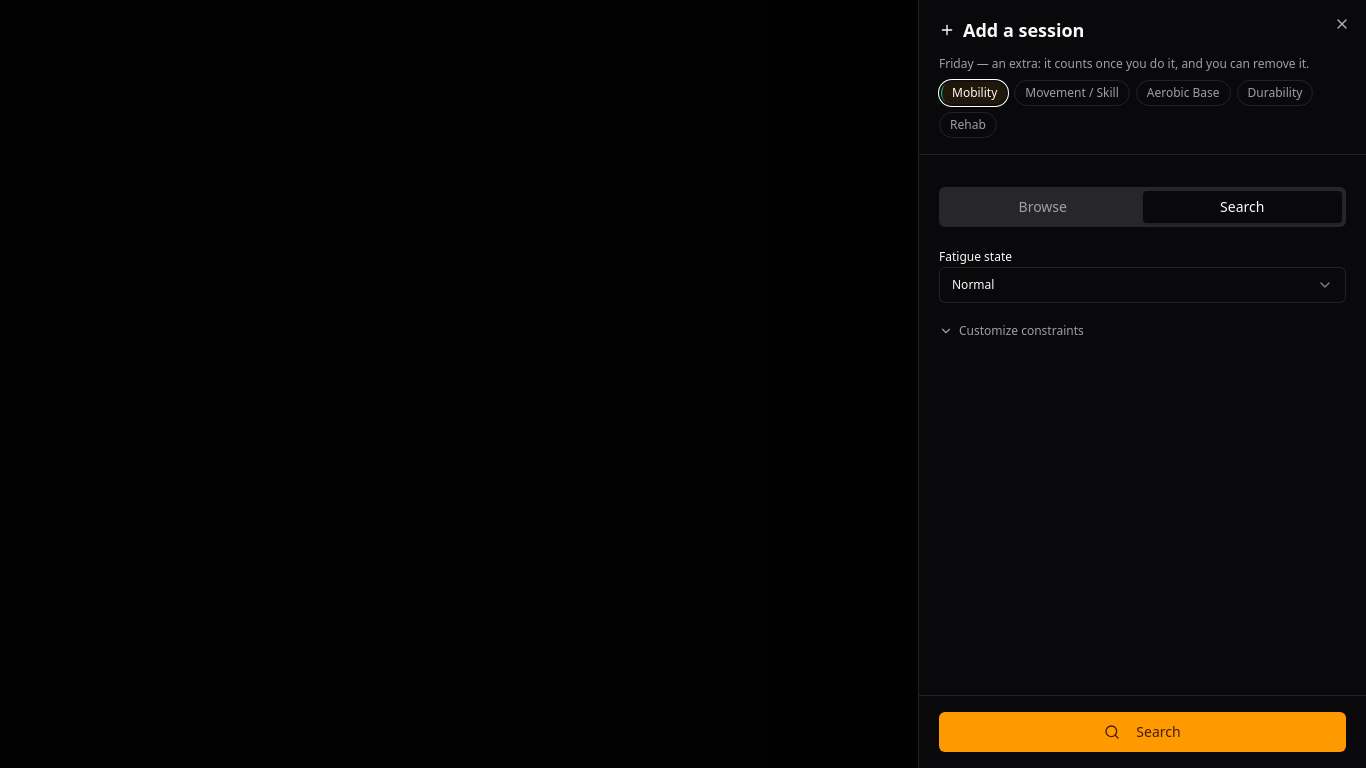
ReplaceSessionSheet — add › Back returns to the search, nothing saved
Click the button "Search": (1142, 732) x1=939 y1=712 x2=1346 y2=752
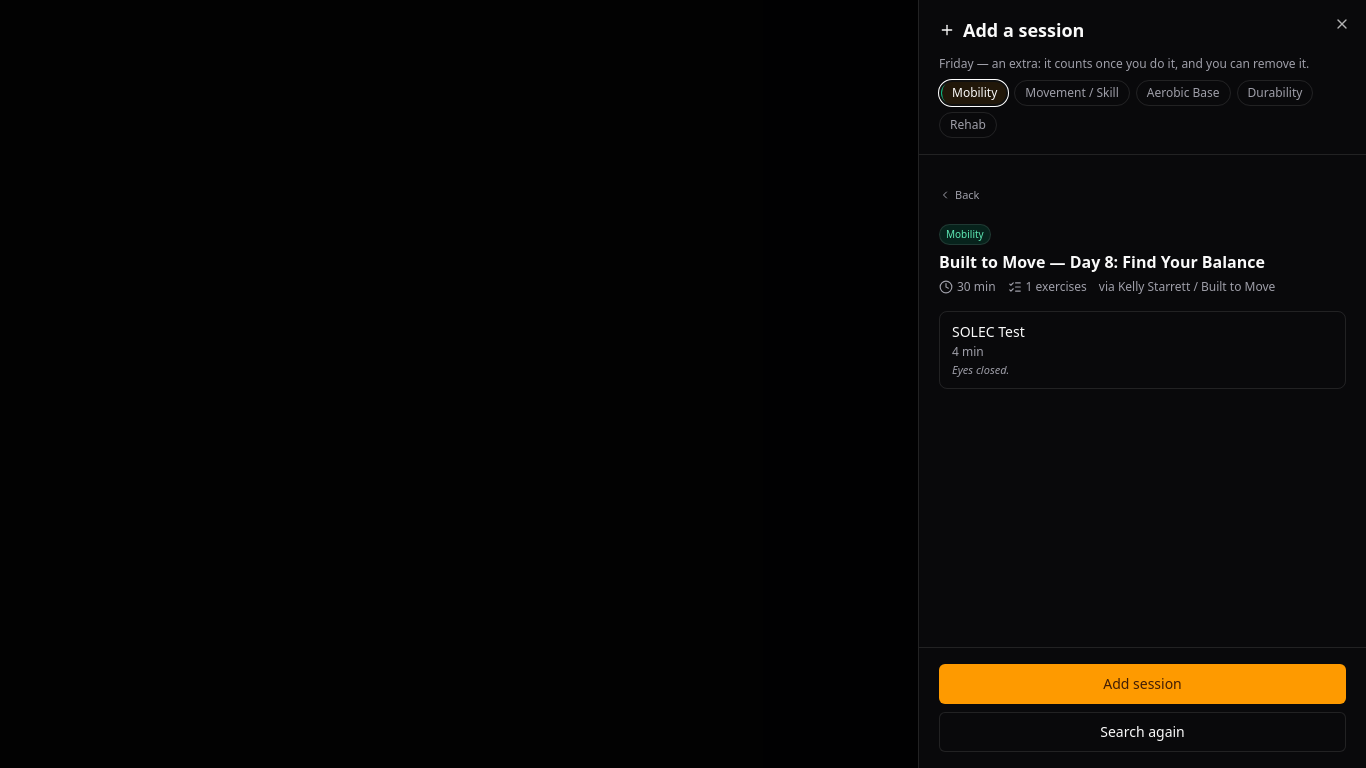
Click the button "Back": (959, 195) x1=939 y1=187 x2=980 y2=204
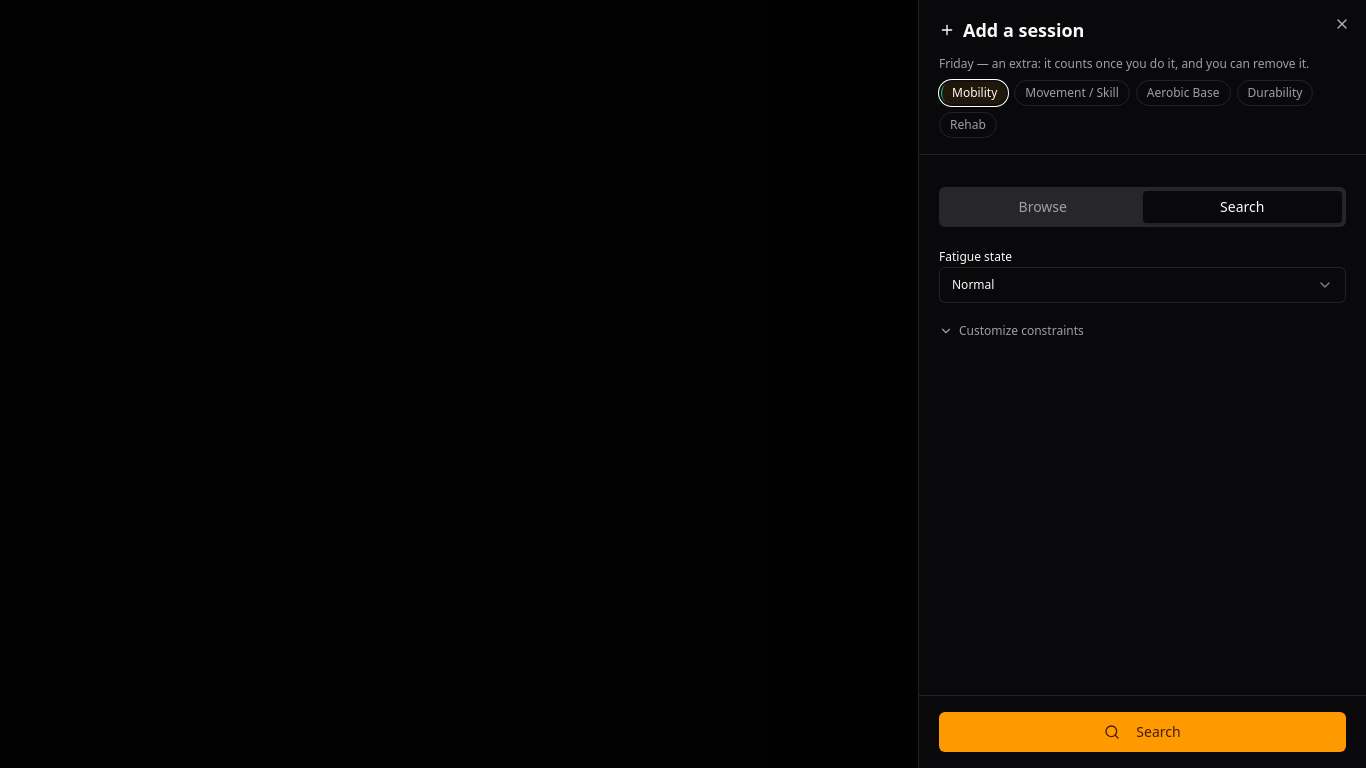
Now the button "Search" is shown, box x1=939 y1=712 x2=1346 y2=752
